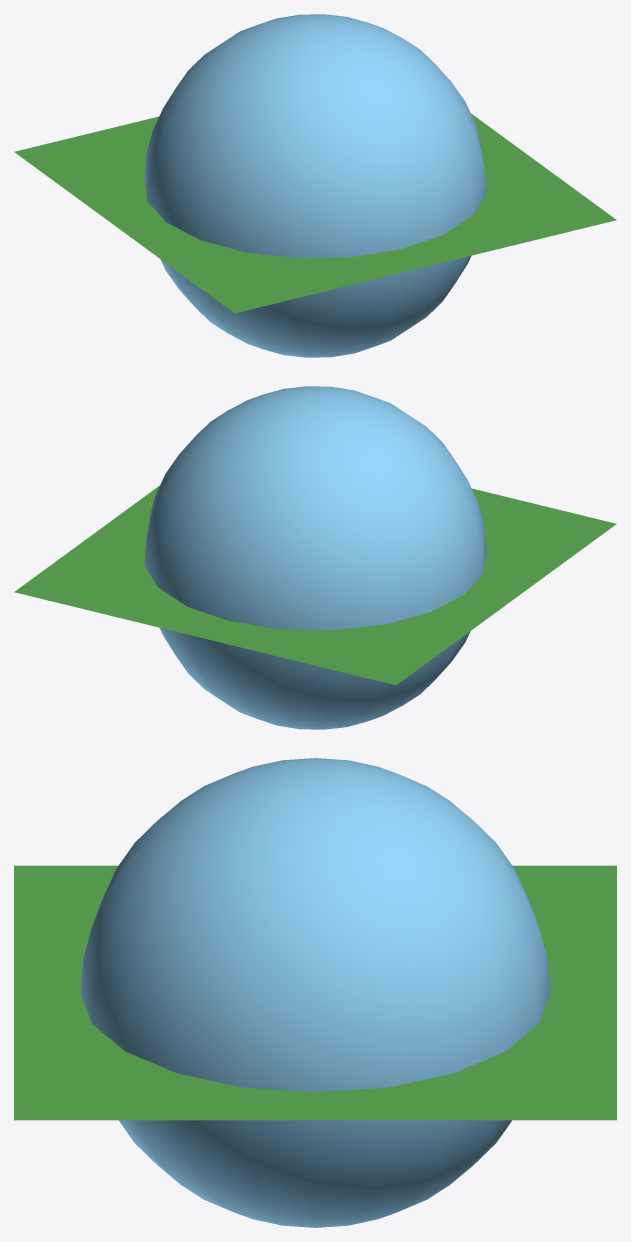
The model's file is spiderwoman.dae.
3 views of the same model, one above another, from view 1: azimuth 30°, elevation 25°; view 2: azimuth 150°, elevation 25°; view 3: azimuth 270°, elevation 25° (orthographic). The views are drawn at different scales.
Visible parts, largest first — view 1: pSphere5, pPlane1; view 2: pSphere5, pPlane1; view 3: pSphere5, pPlane1.
Boxes of the visible parts, left/top/right/bottom form: pSphere5: left=144, top=14, right=486, bottom=357; pPlane1: left=14, top=113, right=616, bottom=313; pSphere5: left=144, top=386, right=486, bottom=729; pPlane1: left=14, top=485, right=616, bottom=685; pSphere5: left=80, top=758, right=550, bottom=1227; pPlane1: left=14, top=865, right=616, bottom=1120.
Size of the model in its own units: 602 by 469 by 602.
